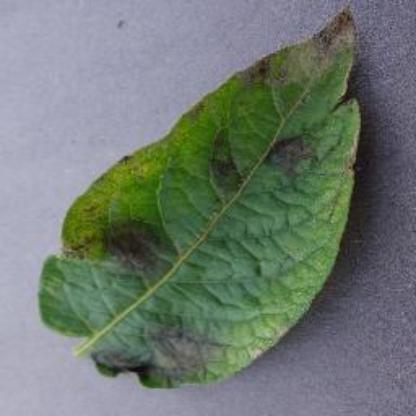Late-Blight: (31, 6, 367, 388)
